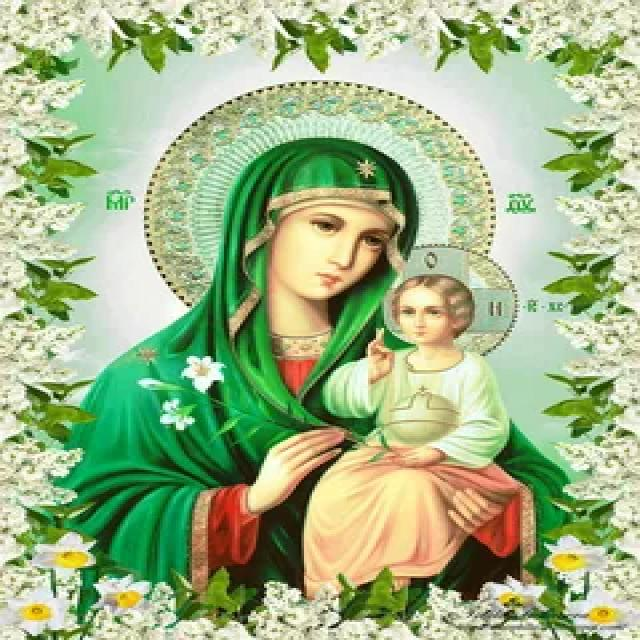mother of god: (36, 135, 583, 605)
